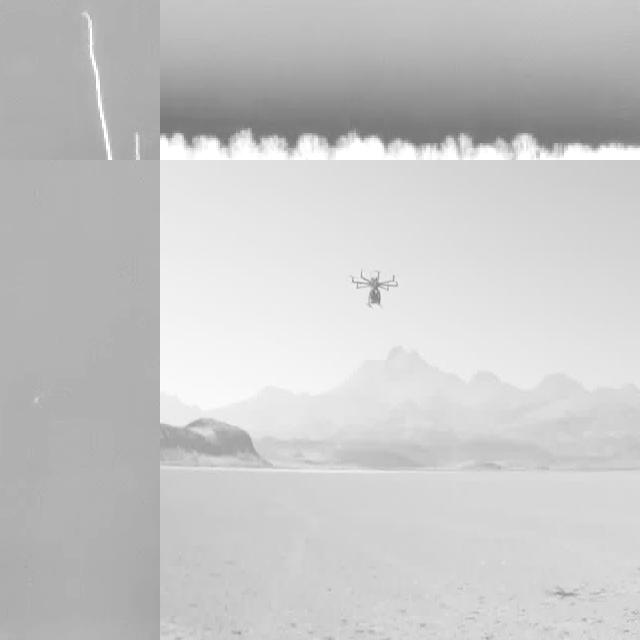0: (22, 389, 44, 419)
drone: (347, 266, 403, 316)
